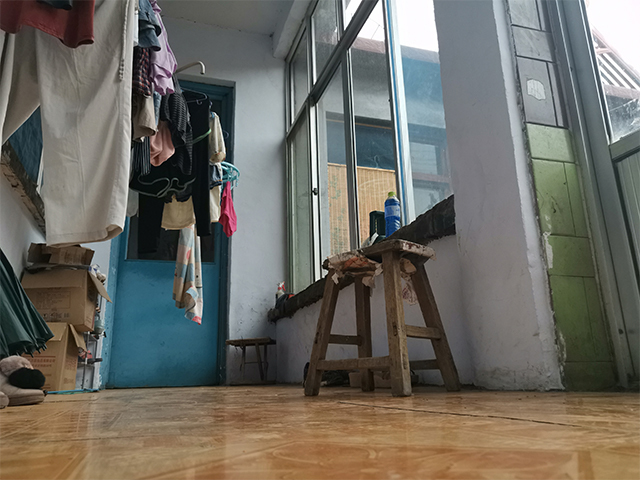stool: (302, 236, 463, 398), (223, 336, 279, 386)
